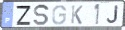1: (93, 3, 101, 26)
G: (52, 4, 68, 26)
J: (106, 5, 118, 24)
K: (70, 5, 84, 25)
S: (33, 4, 50, 27)
Z: (15, 5, 32, 26)
